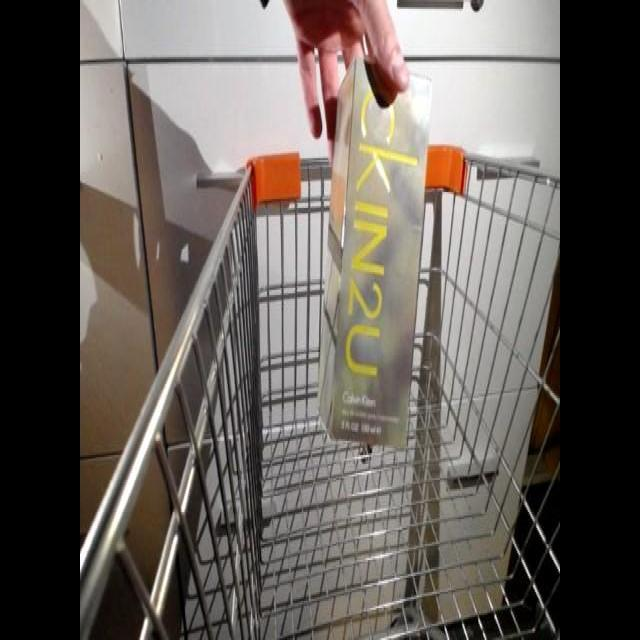Calvin Klein: (314, 63, 436, 451)
